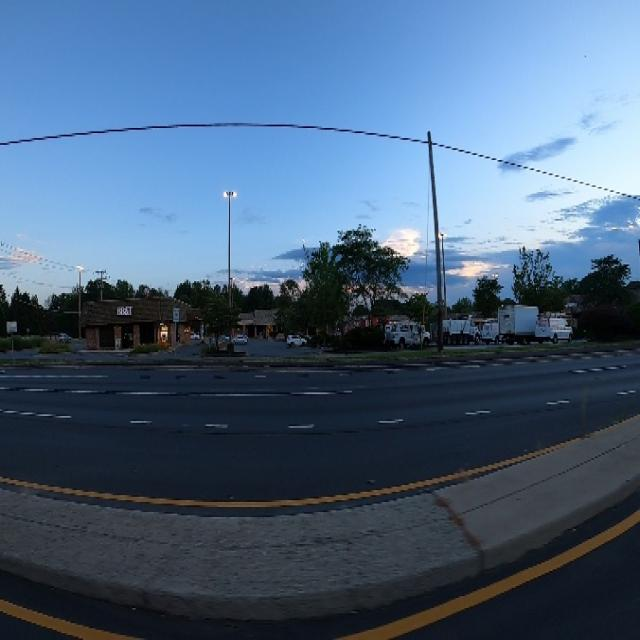cars: (532, 302, 578, 348), (497, 301, 539, 342), (438, 309, 480, 349), (389, 318, 429, 349), (229, 323, 249, 355), (283, 327, 308, 351), (482, 315, 499, 347)
